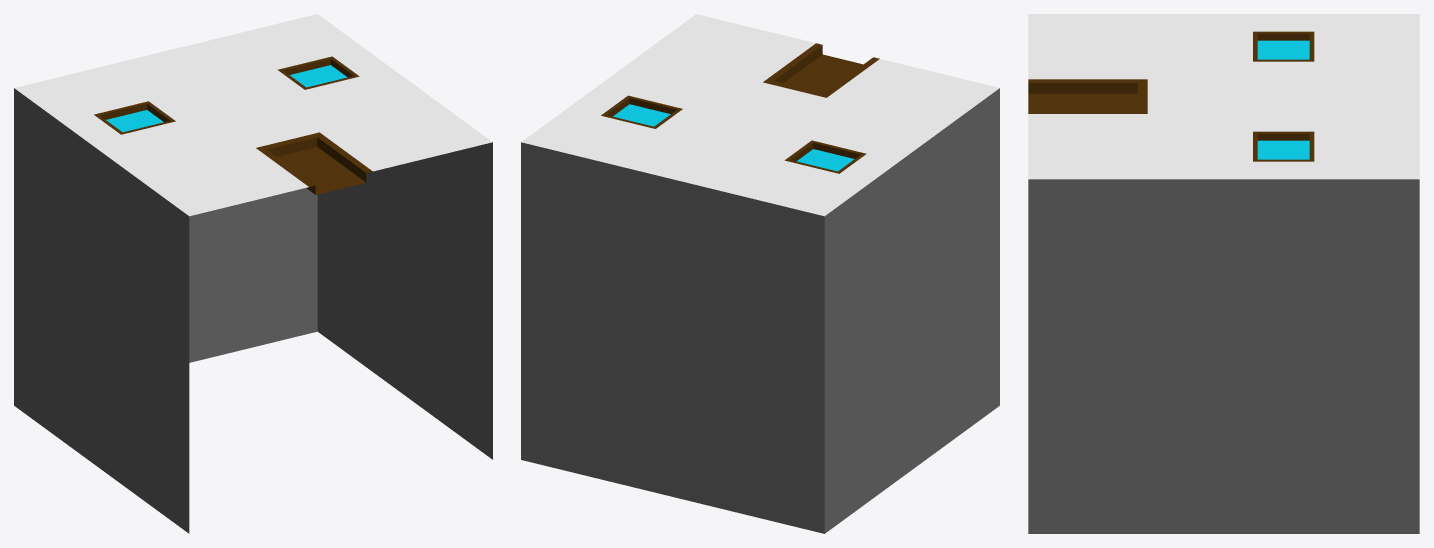
The picture shows the model from 3 angles, left to right: view 1: azimuth 30°, elevation 25°; view 2: azimuth 150°, elevation 25°; view 3: azimuth 270°, elevation 25°; orthographic projection. The views are drawn at different scales.
Parts seen in each view (by area): view 1: Ev; view 2: Ev; view 3: Ev.
Part boxes in pixels (x1=…): Ev: x1=14, y1=14, x2=492, y2=533; Ev: x1=521, y1=14, x2=999, y2=533; Ev: x1=1028, y1=14, x2=1419, y2=533.
Size of the model in its own units: 400 by 400 by 400.
